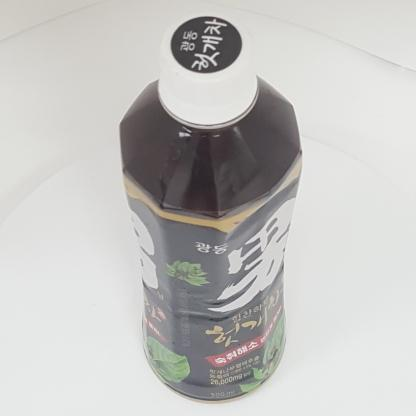---------500ML: (119, 9, 302, 406)
